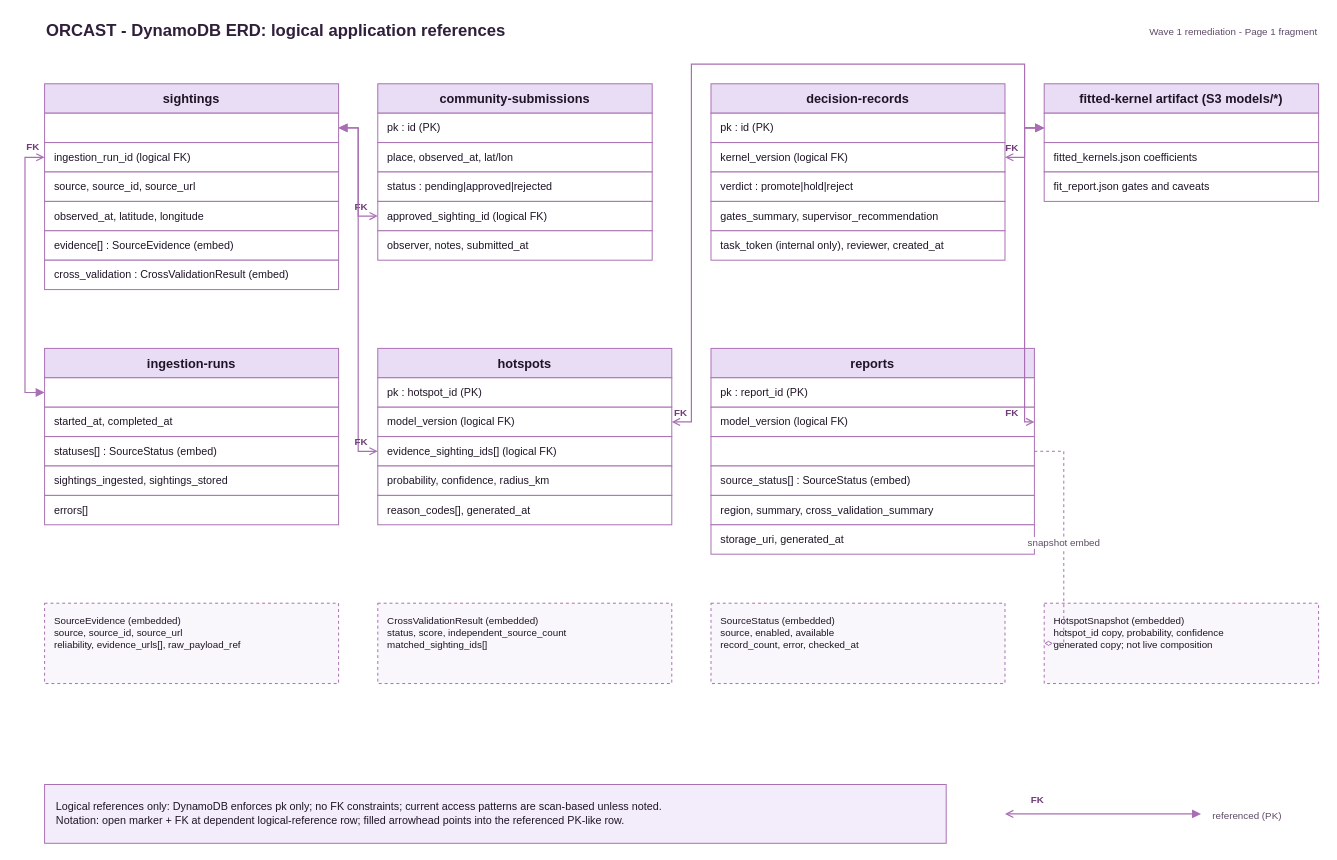
Some shapes in this 1337 by 860 pixel diagram are drawn without their labels. Here are the shapes that lost their labels. From the top down, the box of each, then its label:
(44, 112, 339, 143): pk : sighting_id (PK)
(1043, 112, 1319, 143): model_version / artifact key (PK)
(44, 377, 339, 407): pk : run_id (PK)
(710, 436, 1034, 466): hotspots[] : HotspotSnapshot (denormalized snapshot embed)
